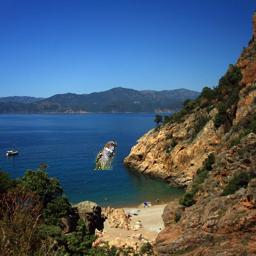Sparrow: (95, 142, 118, 171)
